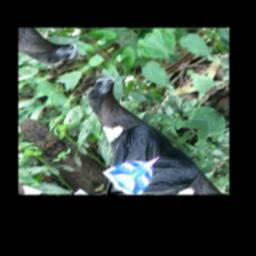Crow: (46, 71, 185, 184)
